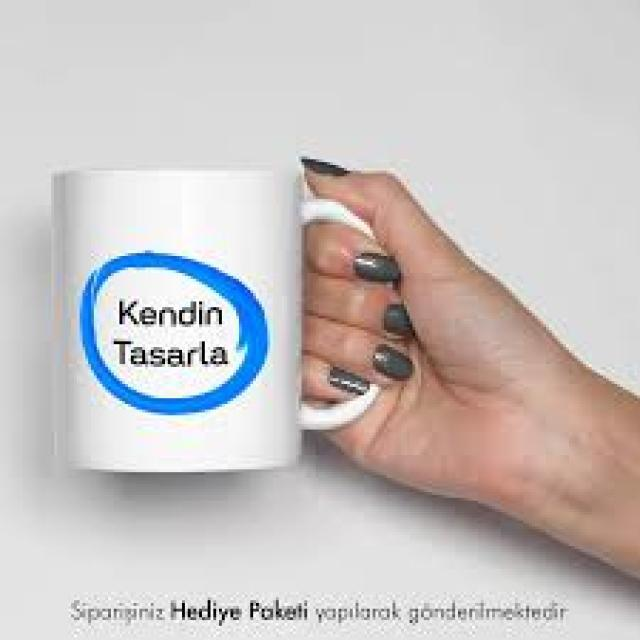taza: (52, 165, 402, 472)
